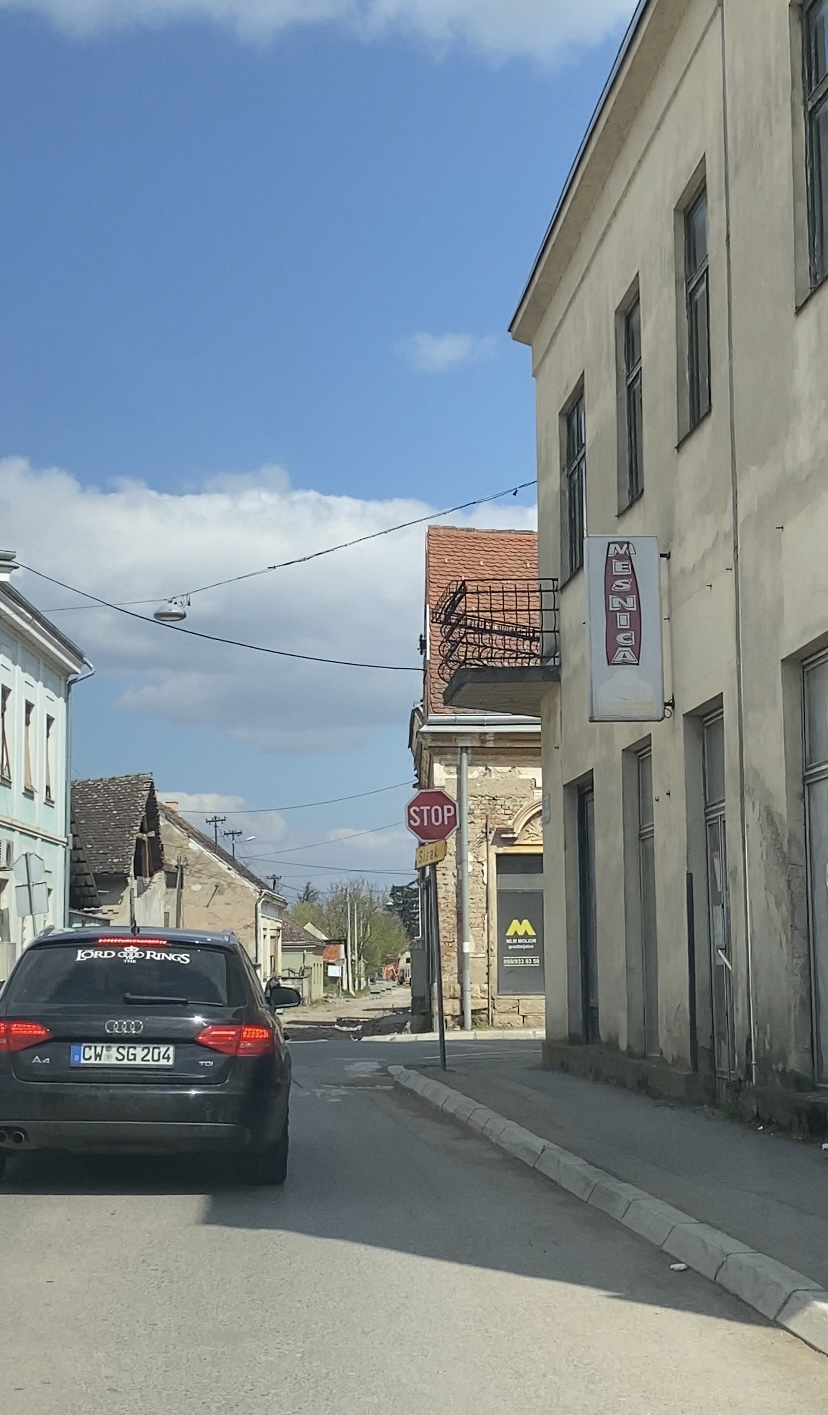Obavezno zaustavljanje: (405, 789, 460, 842)
